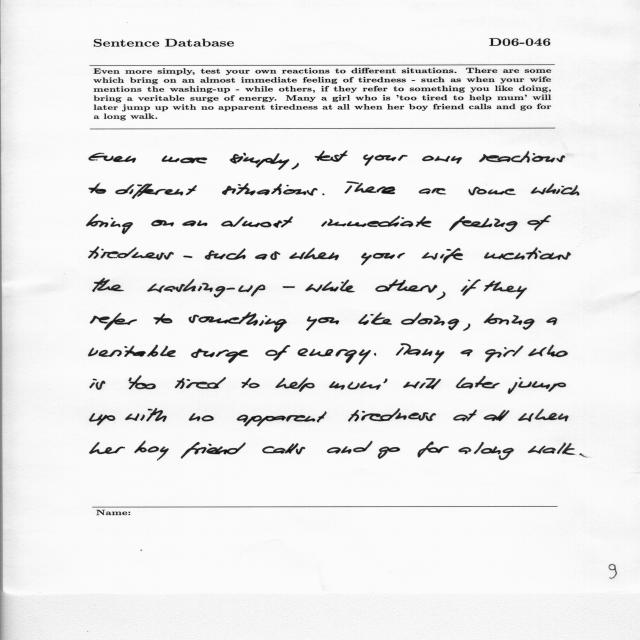word: (148, 279, 266, 297), (189, 313, 287, 333), (237, 411, 327, 427), (222, 183, 318, 196), (298, 348, 371, 365), (115, 184, 197, 199), (322, 216, 432, 227), (348, 409, 436, 422), (484, 247, 571, 260), (88, 247, 174, 260), (181, 442, 246, 459), (449, 216, 518, 232), (88, 345, 176, 357), (401, 313, 459, 331), (230, 153, 289, 170), (508, 377, 566, 394), (396, 344, 444, 364), (479, 151, 565, 162), (86, 214, 133, 234), (191, 349, 249, 364), (376, 279, 438, 293), (484, 313, 535, 330), (221, 216, 293, 228), (90, 313, 137, 330), (483, 281, 527, 299), (474, 442, 514, 460), (329, 378, 388, 390), (134, 441, 169, 461), (518, 409, 569, 422), (305, 280, 355, 293), (485, 346, 523, 363), (531, 183, 580, 196), (421, 248, 463, 263), (345, 182, 396, 194), (175, 377, 226, 389), (528, 442, 575, 455), (289, 248, 339, 260), (125, 408, 167, 422), (276, 377, 315, 392), (327, 441, 372, 454), (456, 376, 500, 389), (417, 441, 449, 458), (363, 154, 408, 166), (361, 253, 405, 265), (262, 443, 305, 455), (306, 316, 339, 331), (205, 248, 246, 260), (528, 345, 568, 357), (89, 153, 136, 163), (358, 312, 392, 325), (93, 278, 124, 292), (89, 442, 125, 454), (469, 187, 516, 196), (266, 345, 291, 361), (527, 215, 551, 231), (162, 156, 208, 164), (315, 151, 348, 162), (422, 155, 462, 164), (129, 376, 156, 389), (461, 279, 481, 296), (90, 413, 116, 426), (453, 410, 477, 422), (484, 410, 510, 421), (378, 447, 400, 459), (419, 378, 441, 389), (255, 251, 280, 260), (154, 314, 173, 325), (189, 413, 214, 421), (241, 378, 260, 388), (89, 183, 106, 194), (90, 378, 105, 390), (419, 188, 446, 194), (151, 220, 174, 227), (182, 221, 208, 227), (403, 382, 420, 389), (459, 447, 472, 454), (546, 317, 557, 325), (461, 350, 473, 357), (437, 292, 446, 300), (464, 323, 471, 331), (291, 163, 299, 169), (580, 454, 587, 458), (283, 286, 295, 288), (184, 256, 193, 258), (128, 378, 132, 382), (322, 194, 325, 196), (374, 353, 376, 356)
